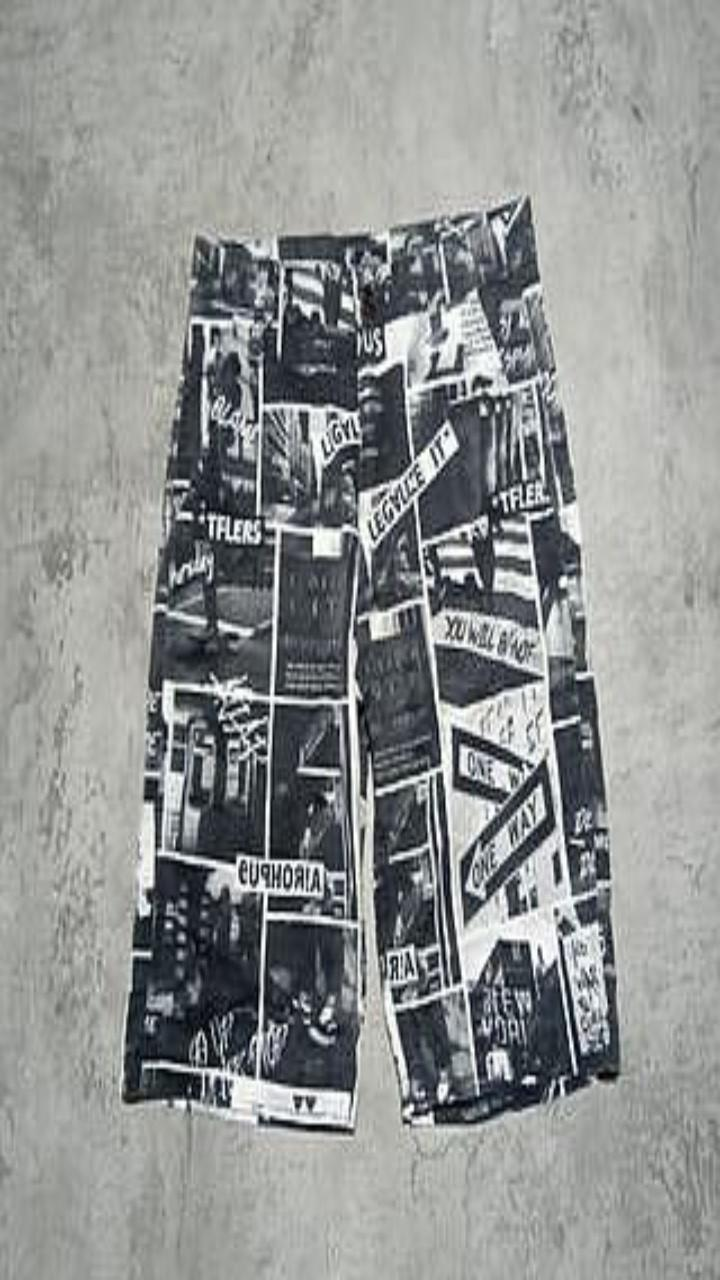Shorts: (123, 198, 617, 1128)
